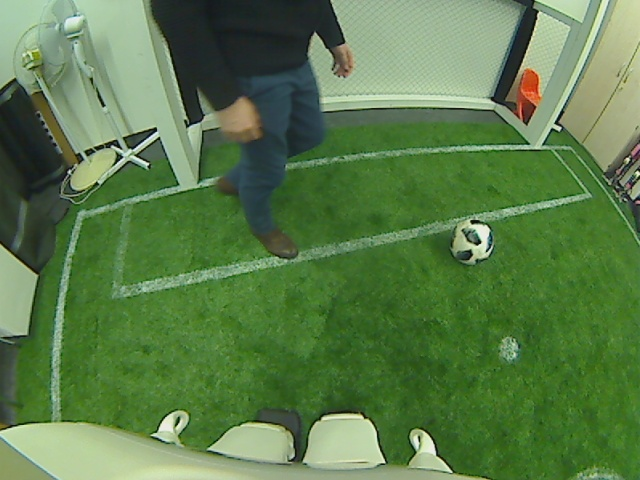ball: (451, 217, 494, 267)
